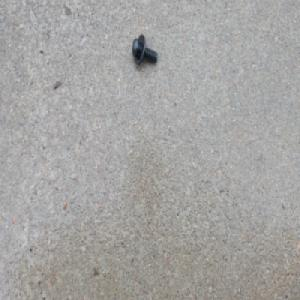BoltWasher: (132, 34, 158, 67)
